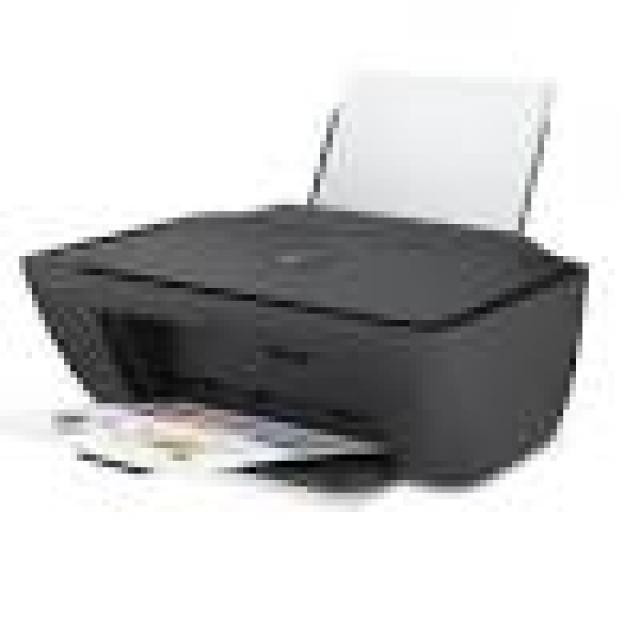printer: (20, 62, 603, 500)
